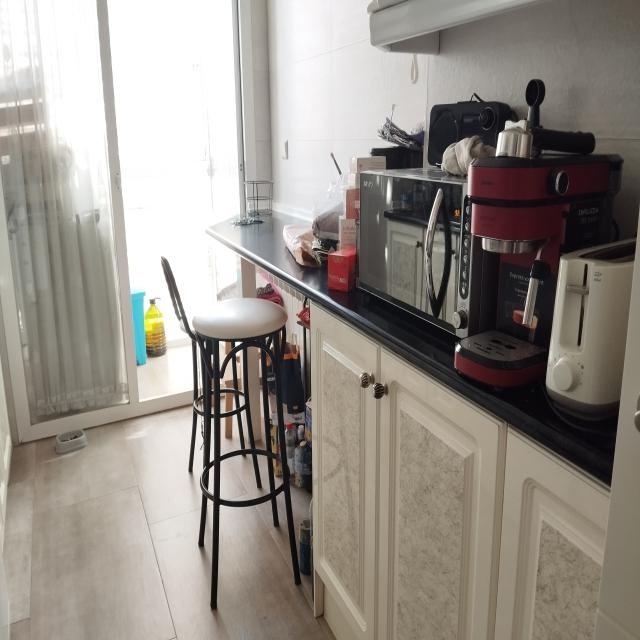cabinet: (309, 303, 507, 640), (494, 425, 610, 640)
chair: (165, 258, 301, 601)
countertop: (208, 210, 613, 483)
microwave: (356, 169, 471, 338)
